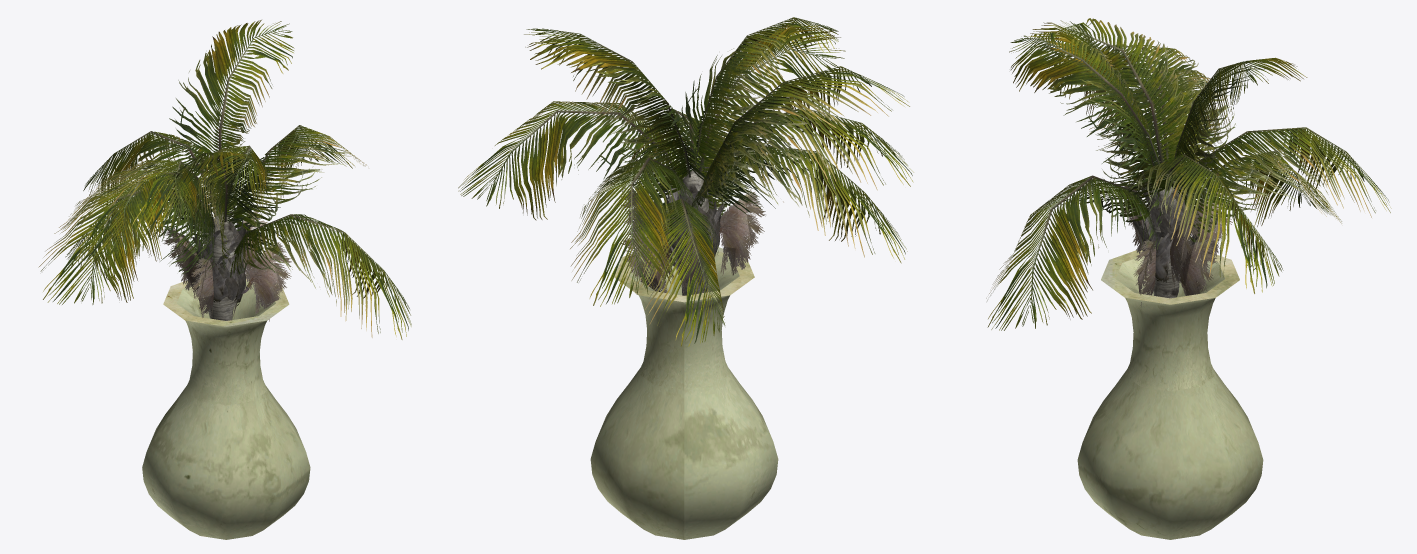
File: planta.obj
3 views of the same model, side by side, from view 1: azimuth 30°, elevation 25°; view 2: azimuth 150°, elevation 25°; view 3: azimuth 270°, elevation 25° (orthographic). The views are drawn at different scales.
Parts seen in each view (by area): view 1: planta, jarron; view 2: planta, jarron; view 3: planta, jarron.
Part boxes in pixels (x1=…): planta: x1=38, y1=20, x2=411, y2=339; jarron: x1=142, y1=276, x2=310, y2=539; planta: x1=458, y1=17, x2=913, y2=346; jarron: x1=590, y1=247, x2=778, y2=539; planta: x1=986, y1=18, x2=1391, y2=330; jarron: x1=1077, y1=248, x2=1263, y2=539.
Bounding box in the file's own units: 131 × 142 × 115.
5 materials, 5 textured.
